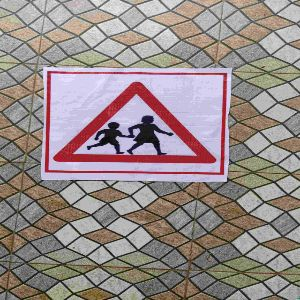schools: (48, 77, 224, 174)
